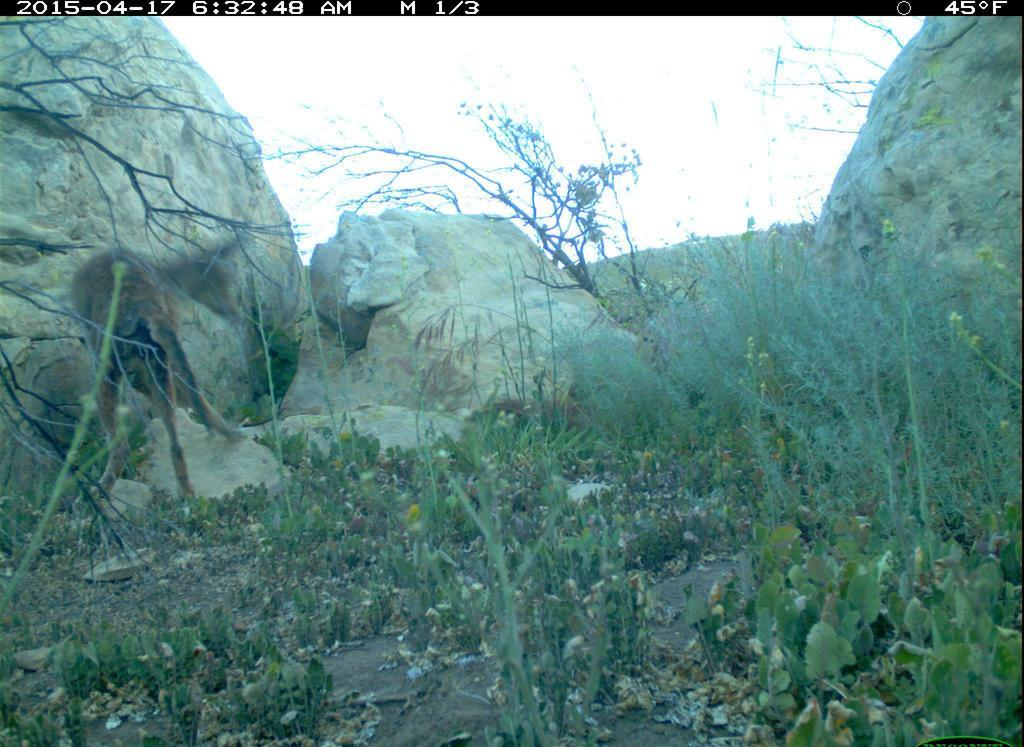coyote: (68, 222, 263, 514)
